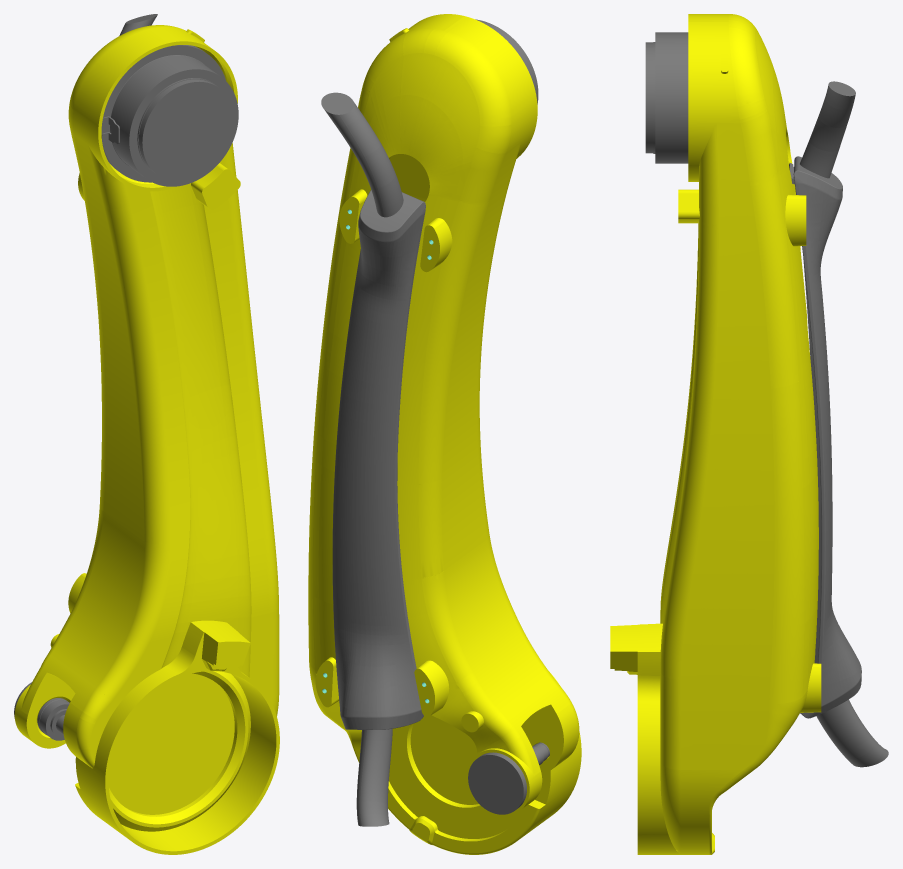
3 renders of one model, left to right at view 1: azimuth 30°, elevation 25°; view 2: azimuth 150°, elevation 25°; view 3: azimuth 270°, elevation 25°, orthographic. The views are drawn at different scales.
Parts seen in each view (by area): view 1: Mesh_0; view 2: Mesh_0; view 3: Mesh_0.
Part boxes in pixels (left/top/right/bottom): Mesh_0: left=14, top=14, right=279, bottom=854; Mesh_0: left=308, top=14, right=581, bottom=854; Mesh_0: left=610, top=14, right=888, bottom=854.
Size of the model in its own units: 0.5114 by 0.5574 by 1.82.
